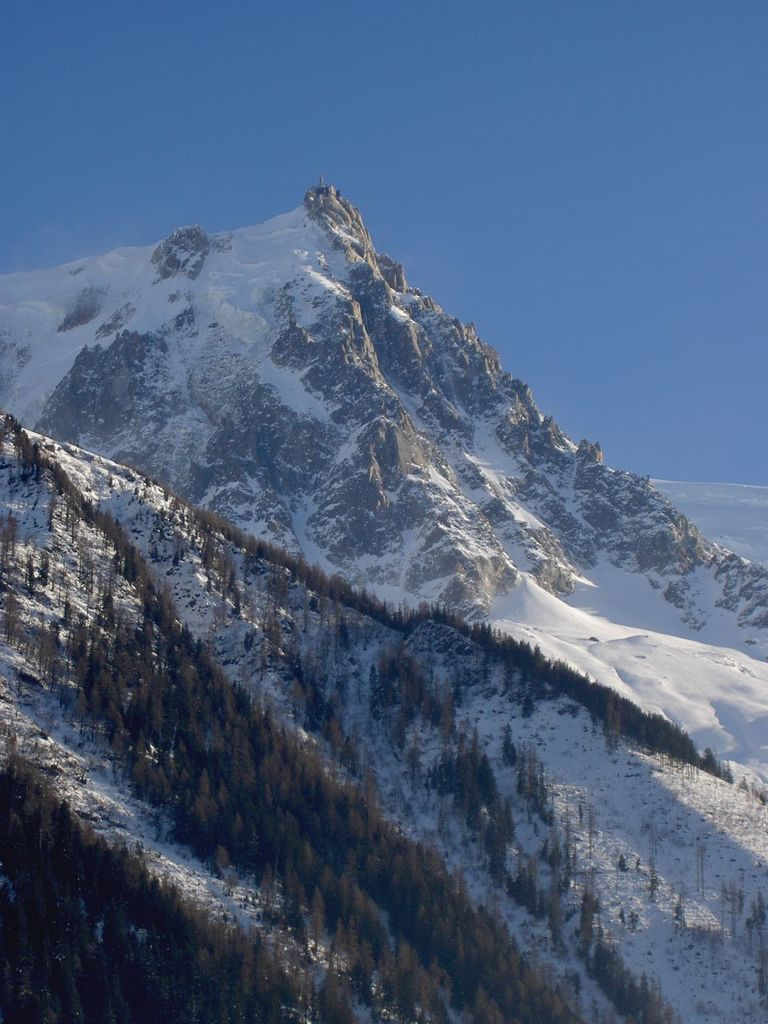Tree: (68, 582, 574, 1023), (2, 729, 357, 1023)
